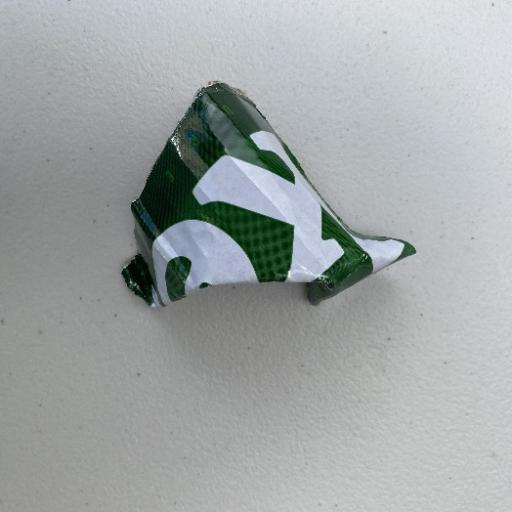Cardboard: (119, 79, 417, 311)
